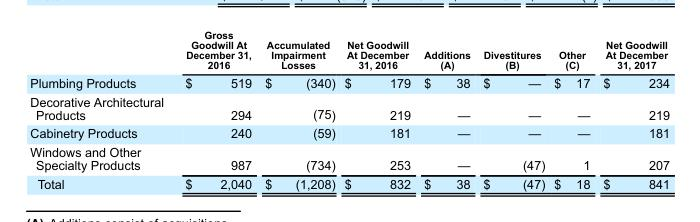table: (29, 29, 668, 190)
table column: (29, 29, 173, 190), (173, 29, 257, 190), (257, 29, 339, 190), (339, 29, 416, 190), (595, 29, 668, 190), (476, 29, 548, 190), (416, 29, 476, 190), (548, 29, 595, 190)
table column header: (29, 29, 668, 73)
table row: (29, 29, 668, 73), (29, 142, 668, 174), (29, 92, 668, 123), (29, 73, 668, 92), (29, 123, 668, 142), (29, 174, 668, 190)
